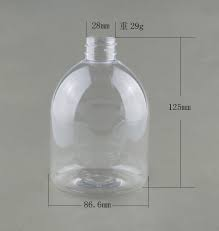available: (46, 33, 155, 195)
